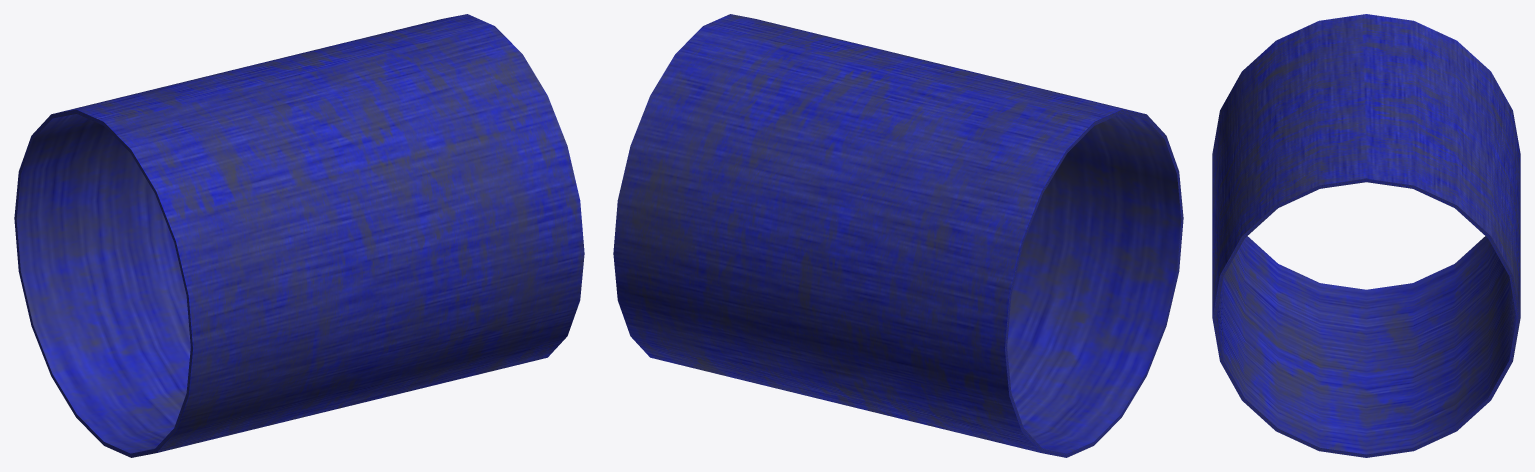
File: CubeBaseFrontPipeNormalB.fbx
The picture shows the model from 3 angles, left to right: view 1: azimuth 30°, elevation 25°; view 2: azimuth 150°, elevation 25°; view 3: azimuth 270°, elevation 25°; orthographic projection. The views are drawn at different scales.
Parts seen in each view (by area): view 1: pPipe1; view 2: pPipe1; view 3: pPipe1.
Boxes of the visible parts, x1,y1,x2,y2 form: pPipe1: [14, 14, 584, 457]; pPipe1: [613, 14, 1183, 457]; pPipe1: [1212, 14, 1520, 457].
Size of the model in its own units: 1.01 by 0.8 by 0.8.
Materials: 1 (1 with a texture image).
